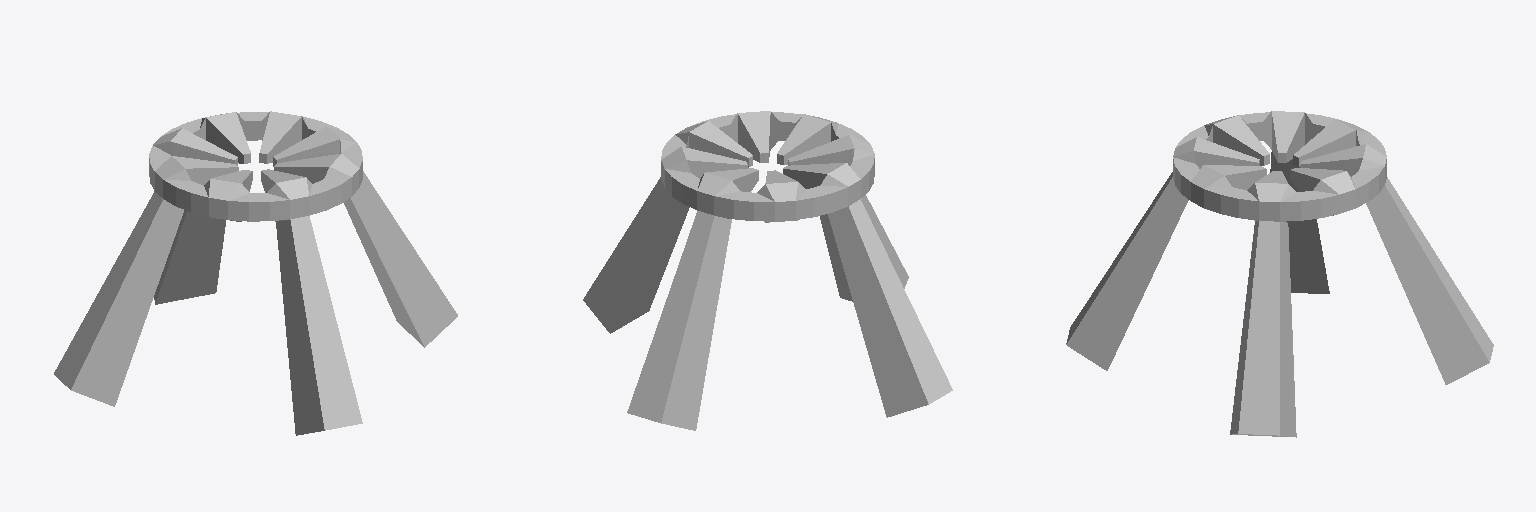
File: quarry.obj
3 views of the same model, side by side, from view 1: azimuth 30°, elevation 25°; view 2: azimuth 150°, elevation 25°; view 3: azimuth 270°, elevation 25° (orthographic).
Parts seen in each view (by area): view 1: Circle; view 2: Circle; view 3: Circle.
Boxes of the visible parts, x1,y1,x2,y2 form: Circle: [54, 111, 457, 435]; Circle: [583, 111, 952, 430]; Circle: [1066, 111, 1493, 437].
Size of the model in its own units: 19.99 by 11.19 by 19.99.